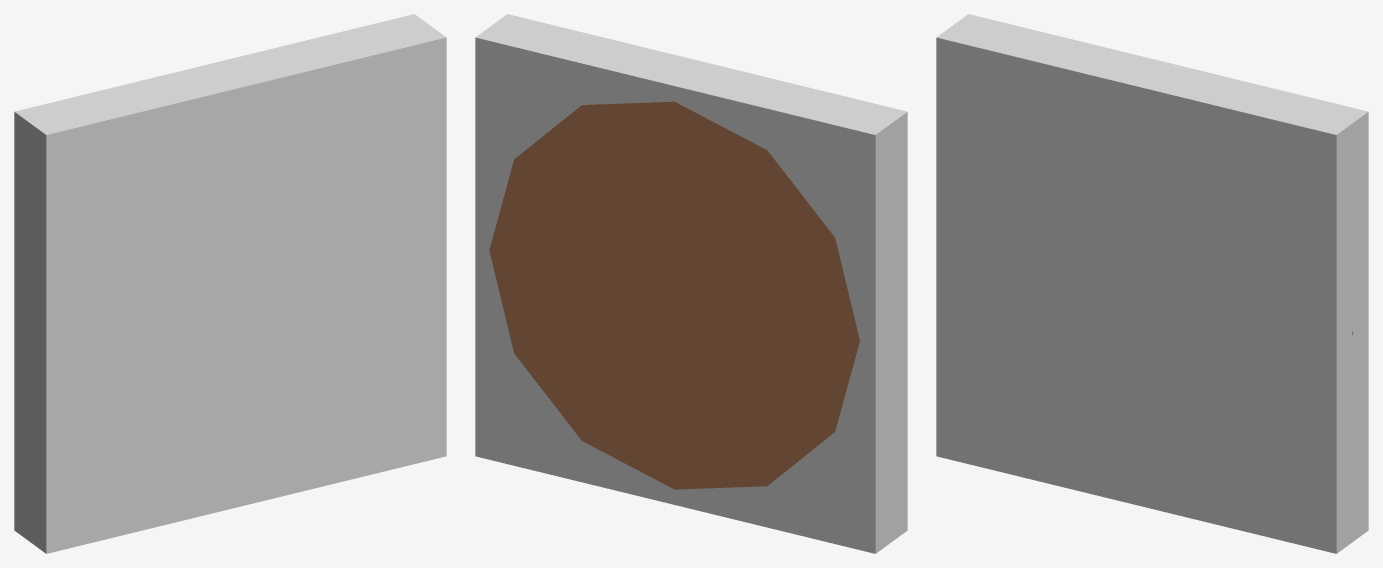
Rendered from clock.glb.
3 renders of one model, left to right at view 1: azimuth 30°, elevation 25°; view 2: azimuth 150°, elevation 25°; view 3: azimuth 330°, elevation 25°, orthographic.
Visible parts, largest first — view 1: Clock_col; view 2: Clock, Clock_col; view 3: Clock_col.
Boxes of the visible parts, box(x1,y1,x2,y2) form: Clock_col: box(14, 14, 446, 553); Clock: box(489, 101, 859, 489); Clock_col: box(475, 14, 907, 553); Clock_col: box(936, 14, 1368, 553).
Size of the model in its own units: 1.76 by 1.75 by 0.2433.
